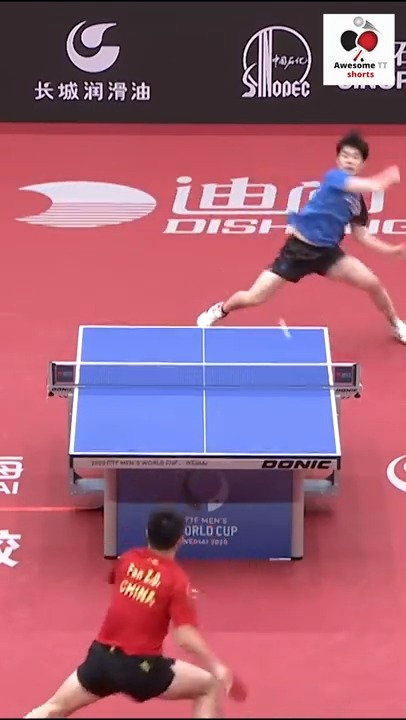Ball: (277, 316, 292, 339)
